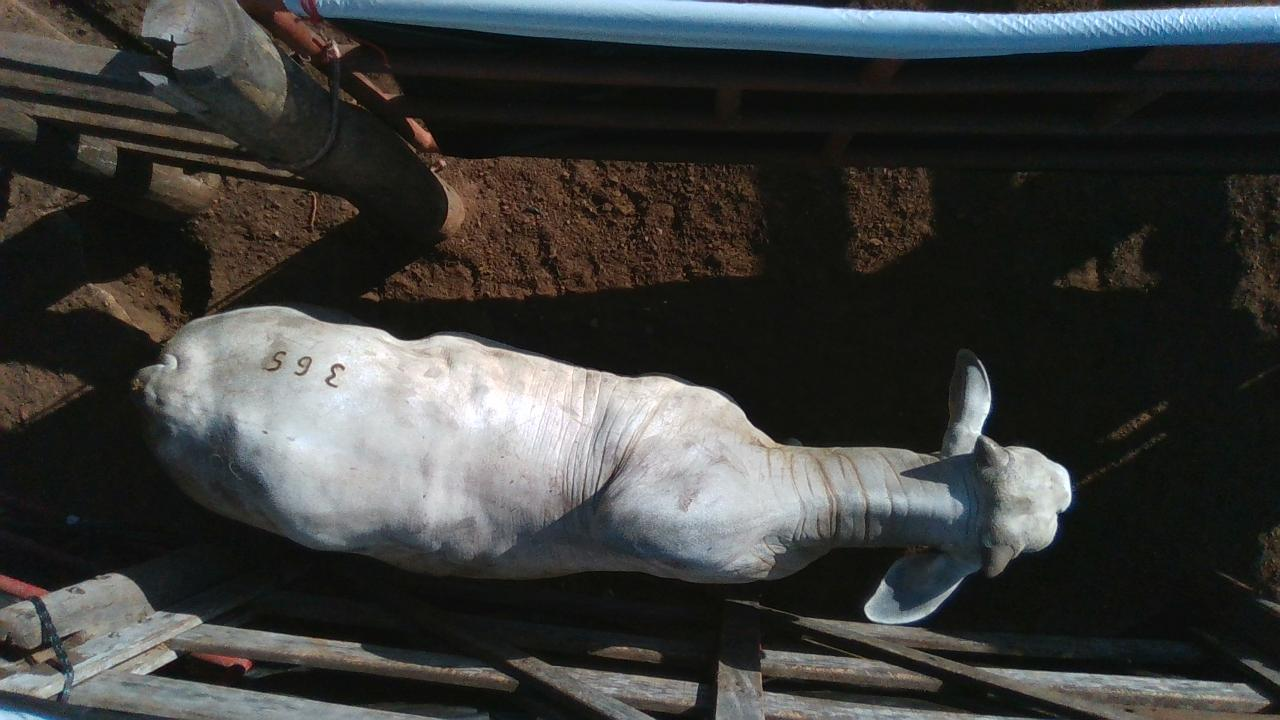cattle: (129, 301, 1073, 626)
